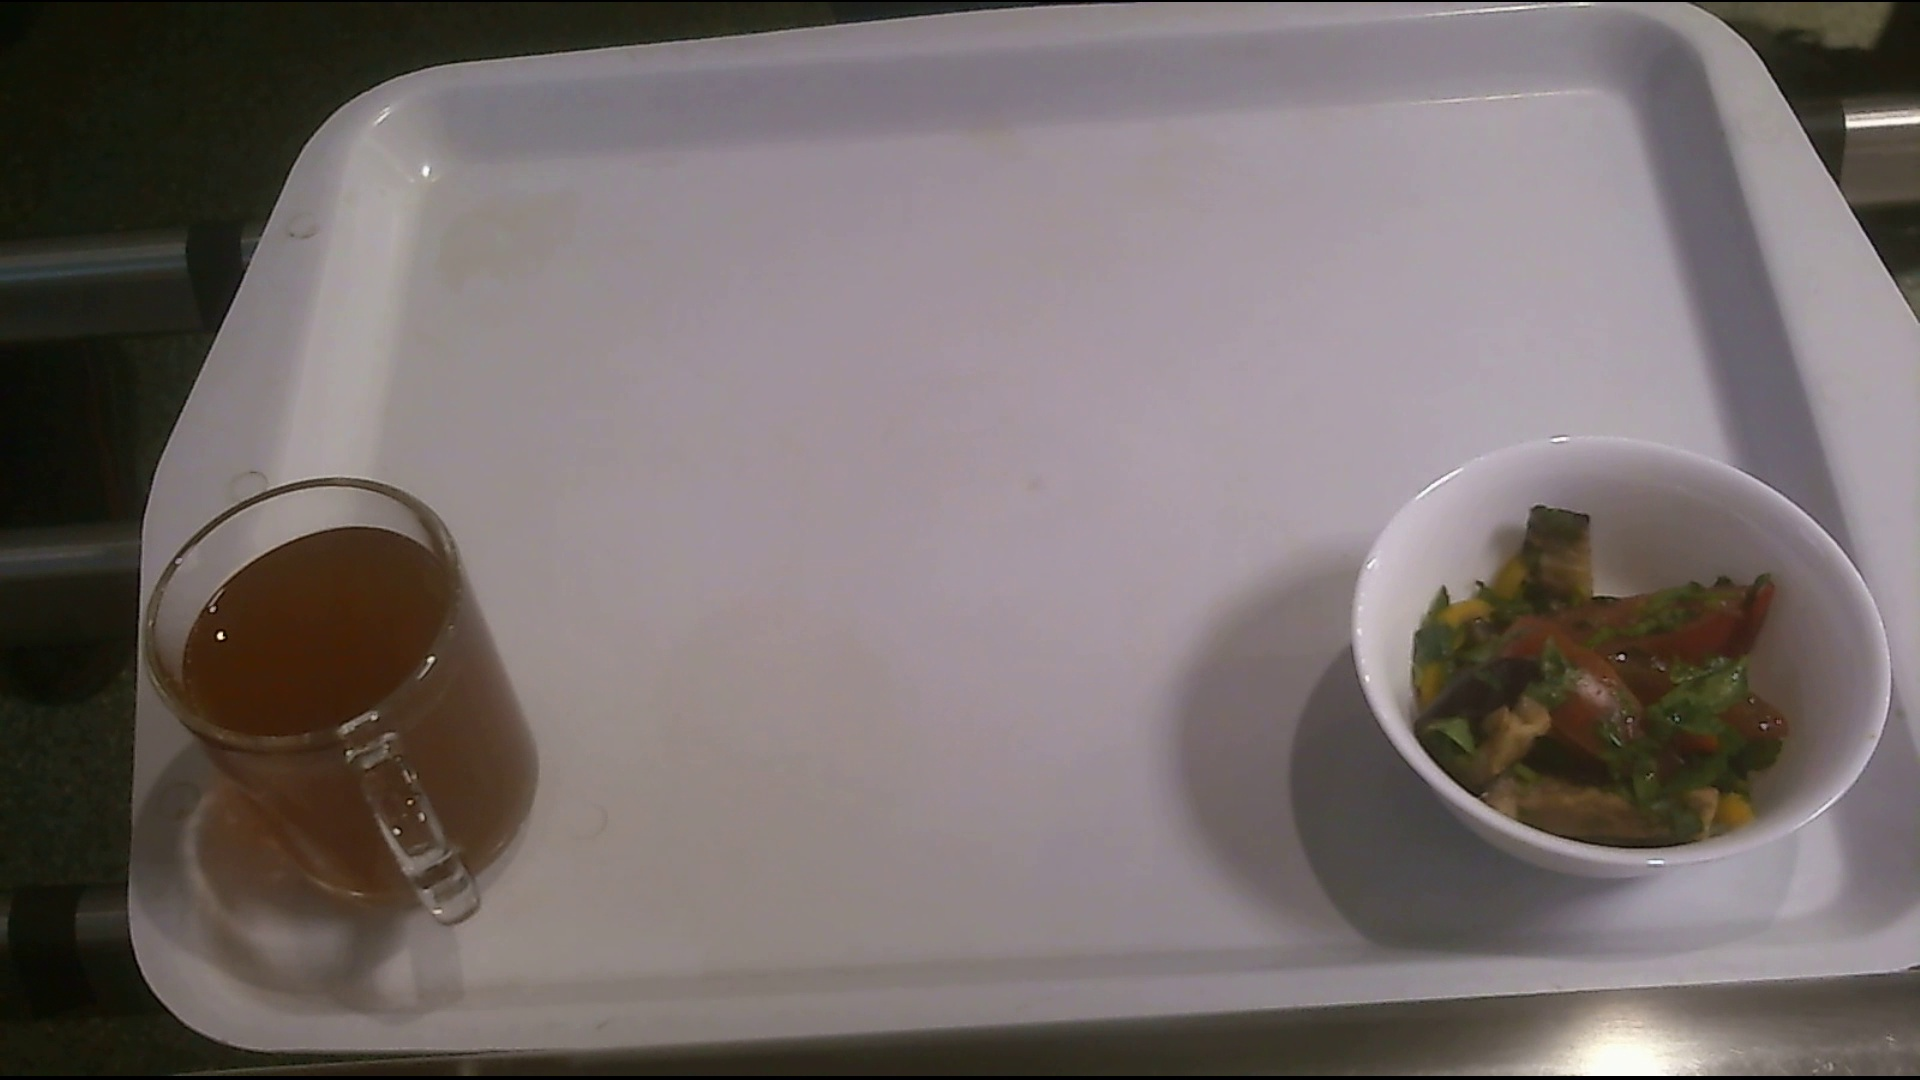bowl: (1344, 429, 1888, 877)
drink: (129, 479, 575, 924)
